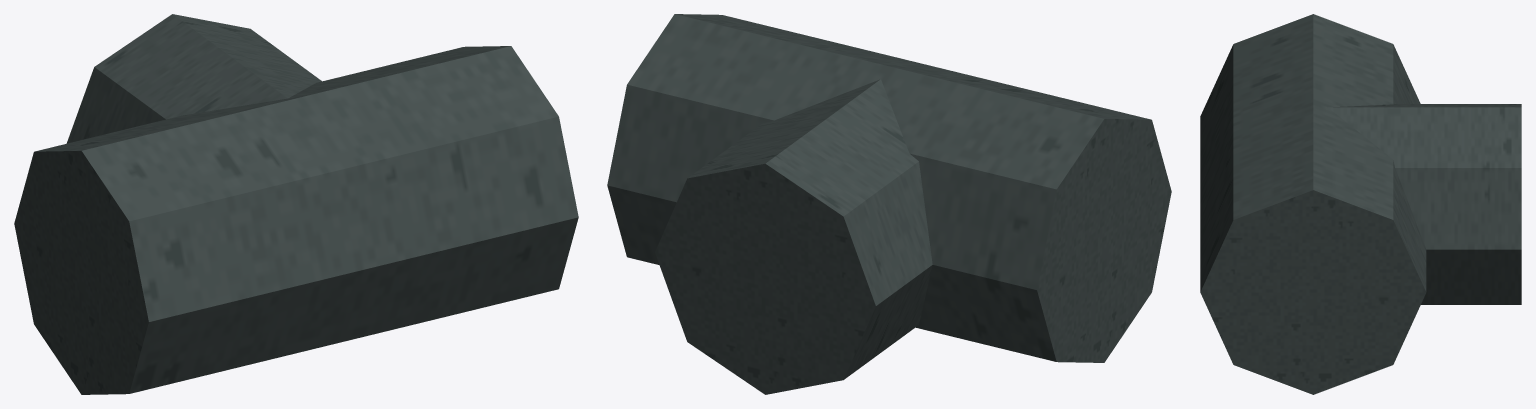
Rendered from PipeTee.fbx.
3 renders of one model, left to right at view 1: azimuth 30°, elevation 25°; view 2: azimuth 150°, elevation 25°; view 3: azimuth 270°, elevation 25°, orthographic. The views are drawn at different scales.
Visible parts, largest first — view 1: PipeTee; view 2: PipeTee; view 3: PipeTee.
Boxes of the visible parts, x1,y1,x2,y2 form: PipeTee: [14, 14, 578, 394]; PipeTee: [607, 14, 1171, 394]; PipeTee: [1200, 14, 1521, 394].
Bounding box in the file's own units: 70 × 38 × 54.
